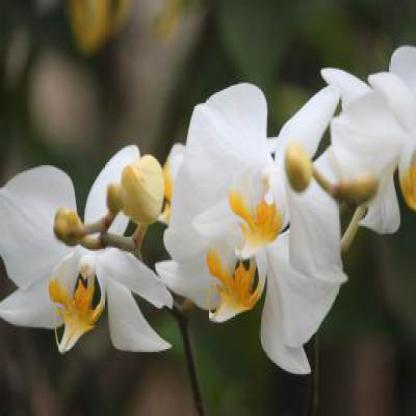ANGGREK: (11, 79, 409, 392)
